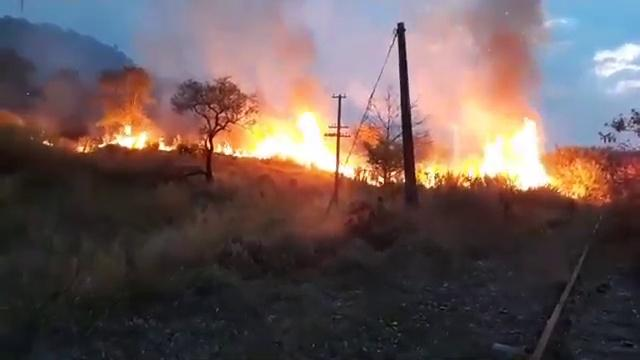fire: (489, 134, 544, 185), (270, 115, 328, 158), (110, 130, 157, 150)
